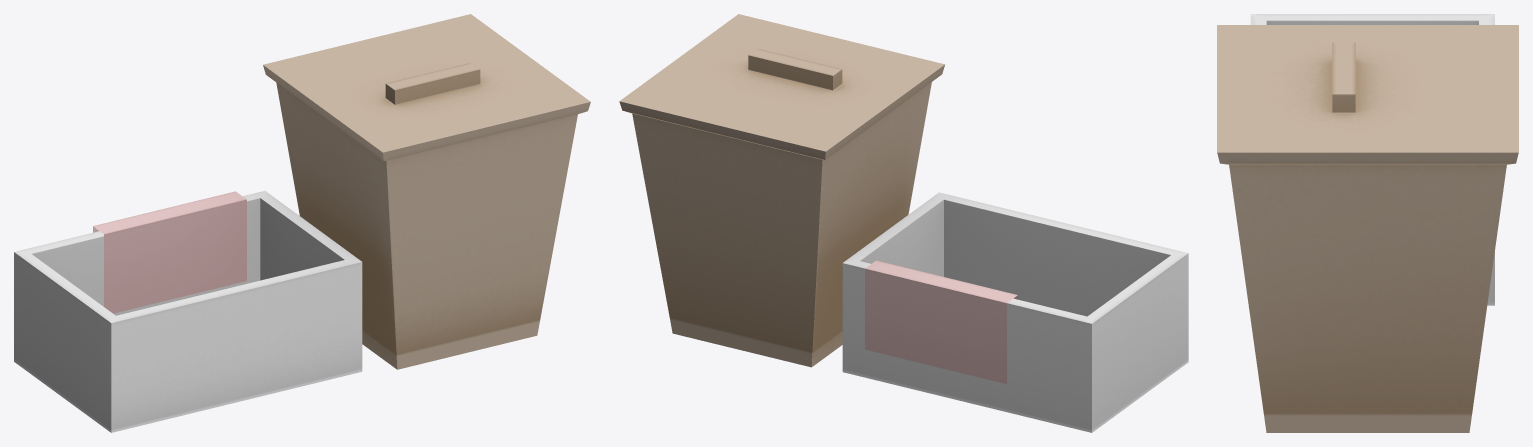
File: laundry_basket.fbx
3 views of the same model, side by side, from view 1: azimuth 30°, elevation 25°; view 2: azimuth 150°, elevation 25°; view 3: azimuth 270°, elevation 25° (orthographic). The views are drawn at different scales.
Visible parts, largest first — view 1: laundry_basket; view 2: laundry_basket; view 3: laundry_basket.
Boxes of the visible parts, x1,y1,x2,y2 form: laundry_basket: [14, 14, 590, 432]; laundry_basket: [619, 14, 1188, 432]; laundry_basket: [1217, 14, 1518, 432].
Size of the model in its own units: 1.8 by 0.9358 by 0.8006.
1 material, 1 textured.
